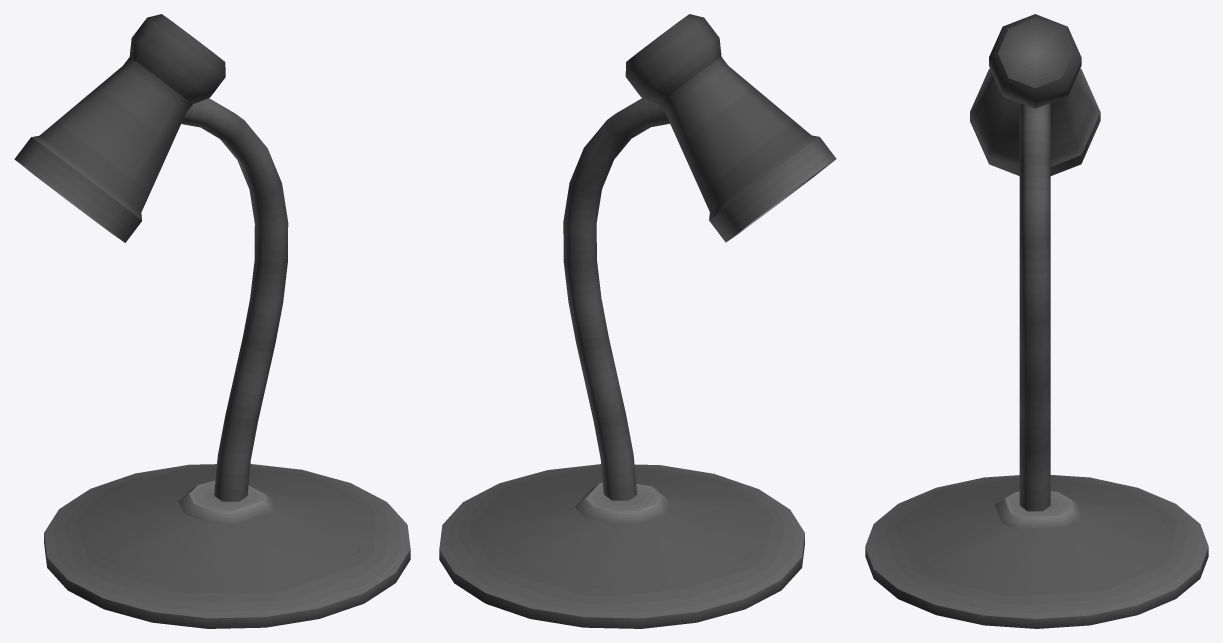
Rendered from lamp_short.fbx.
3 renders of one model, left to right at view 1: azimuth 30°, elevation 25°; view 2: azimuth 150°, elevation 25°; view 3: azimuth 270°, elevation 25°, orthographic. The views are drawn at different scales.
Visible parts, largest first — view 1: Cylinder; view 2: Cylinder; view 3: Cylinder.
Boxes of the visible parts, box(x1,y1,x2,y2) form: Cylinder: box(14, 14, 410, 628); Cylinder: box(439, 14, 836, 628); Cylinder: box(865, 14, 1208, 628).
Bounding box in the file's own units: 81.25 × 118 × 71.73.
